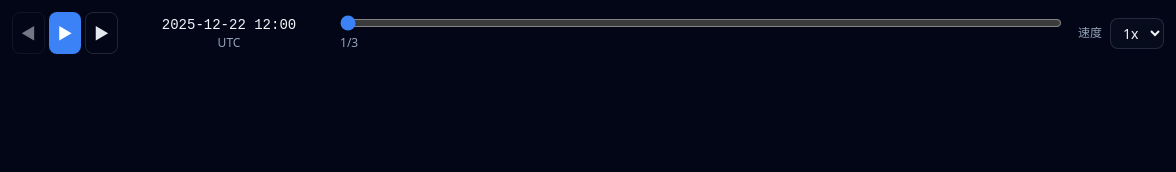
Test: TimeController › steps frames and refreshes layers
Expected: the text "2025-12-22 12:00" is shown, [162,17,296,33]
Step 1. Click the button named "下一帧" → (102, 33), box [85,12,118,54]
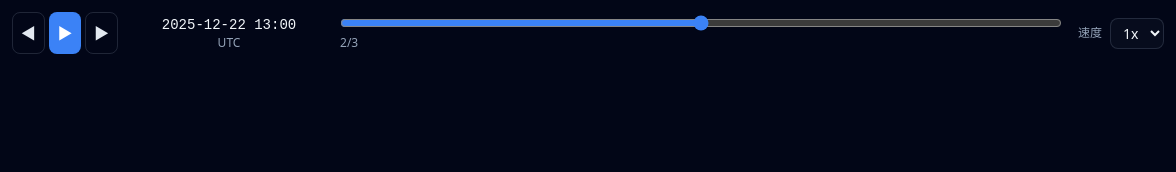
Result: the text "2025-12-22 13:00" is shown at [162,17,296,33]
